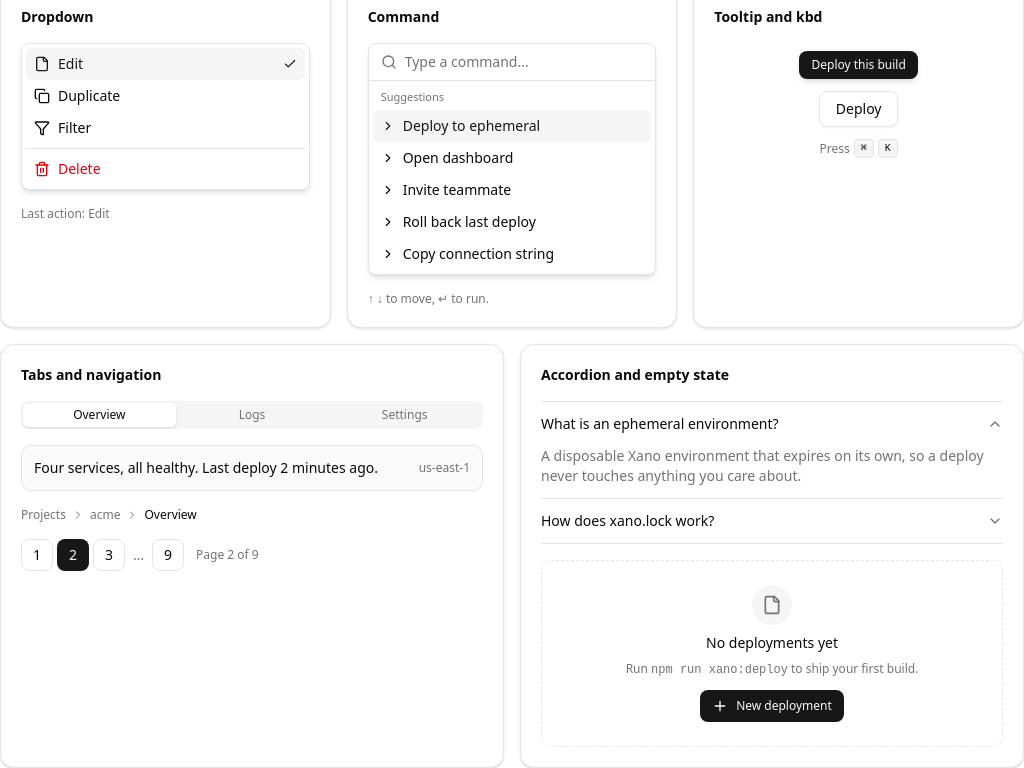
Scenario: the component gallery › opens and closes the accordion
(page scrolled)
Step 1. Click the button "How does xano.lock work?" → (628, 520), box [541, 498, 1003, 542]
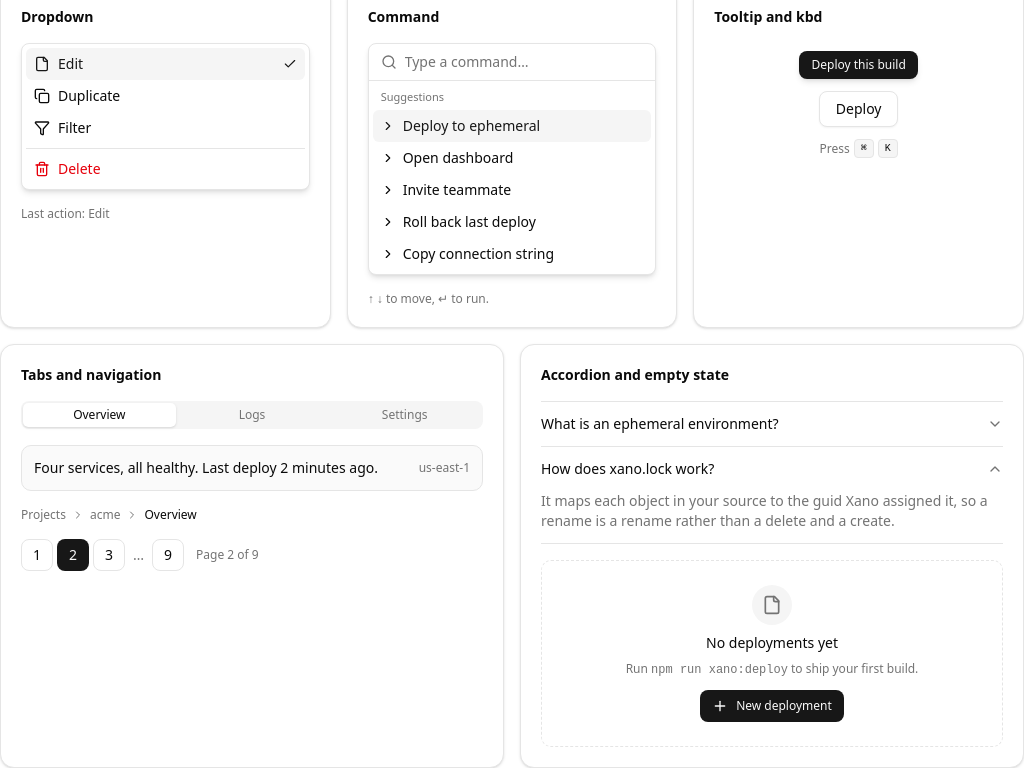
Expected: the button "How does xano.lock work?" is expanded, [541, 446, 1003, 490]
Expected: the text "maps each object in your source" is shown, [541, 490, 988, 530]
